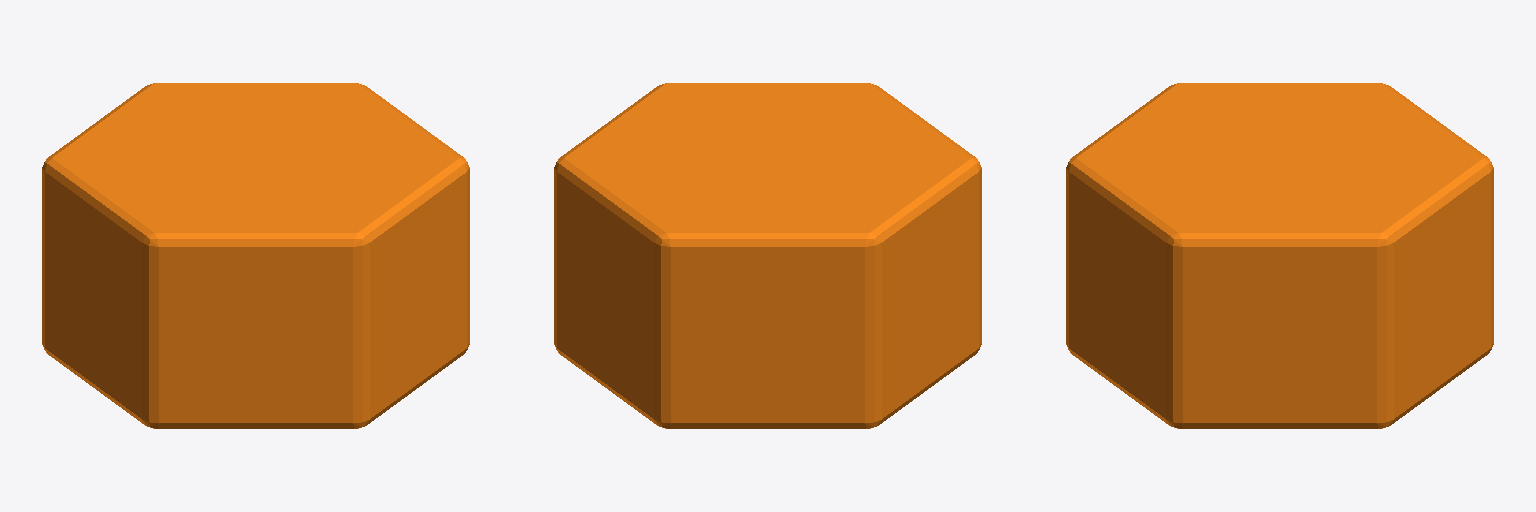
The model's file is sand.obj.
3 renders of one model, left to right at view 1: azimuth 30°, elevation 25°; view 2: azimuth 150°, elevation 25°; view 3: azimuth 270°, elevation 25°, orthographic.
Visible parts, largest first — view 1: sand; view 2: sand; view 3: sand.
Boxes of the visible parts, x1,y1,x2,y2 form: sand: [42, 83, 469, 428]; sand: [554, 83, 981, 428]; sand: [1066, 83, 1493, 428].
Bounding box in the file's own units: 6.93 × 4 × 7.9.